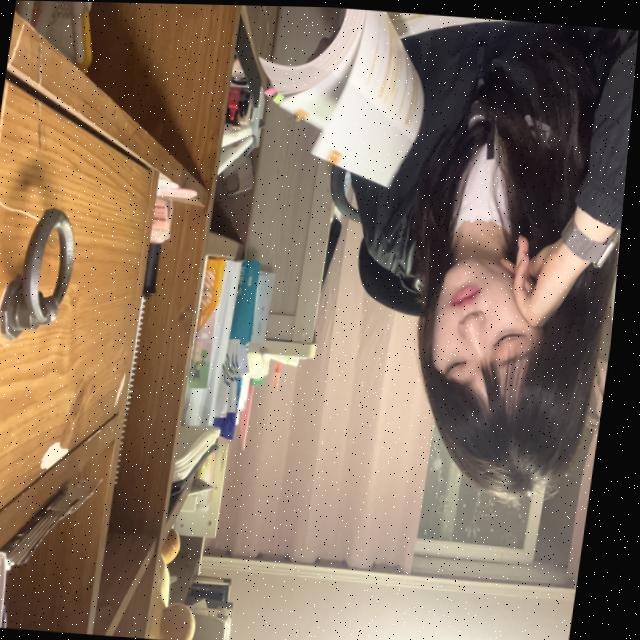studying-person: (192, 4, 640, 521)
